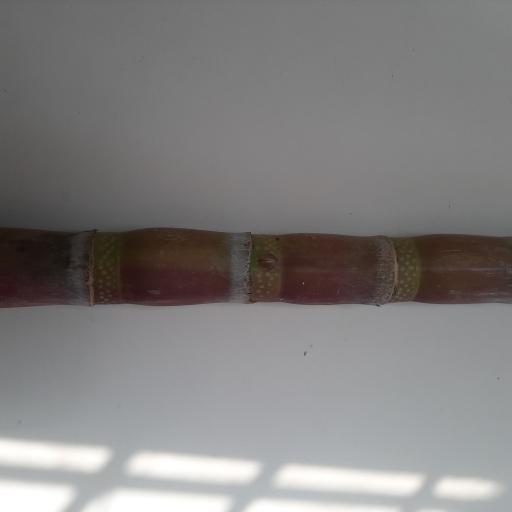Bud: (254, 249, 278, 273)
